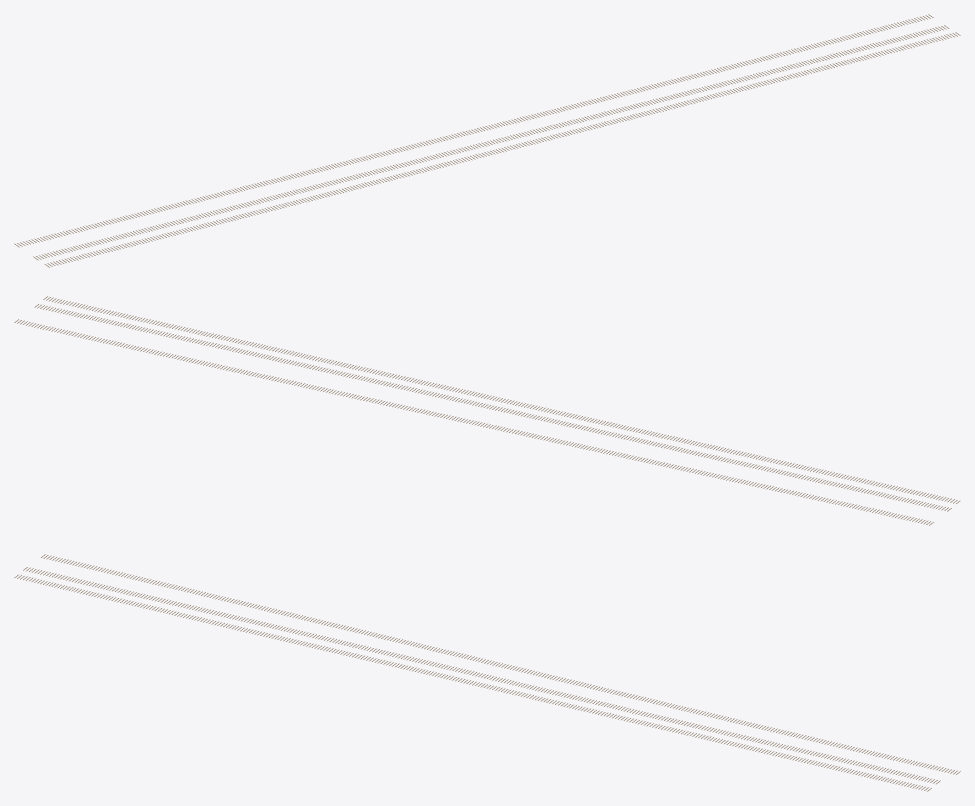
File: c_1625_17822_rail_sleeper.glb
The picture shows the model from 3 angles, top to bottom: view 1: azimuth 30°, elevation 25°; view 2: azimuth 150°, elevation 25°; view 3: azimuth 330°, elevation 25°; orthographic projection. The views are drawn at different scales.
Parts seen in each view (by area): view 1: geometry_0; view 2: geometry_0; view 3: geometry_0.
Boxes of the visible parts, left/top/right/bottom form: geometry_0: left=14, top=14, right=960, bottom=267; geometry_0: left=14, top=296, right=960, bottom=525; geometry_0: left=14, top=554, right=960, bottom=791.
Size of the model in its own units: 256 by 2.16 by 22.92.
